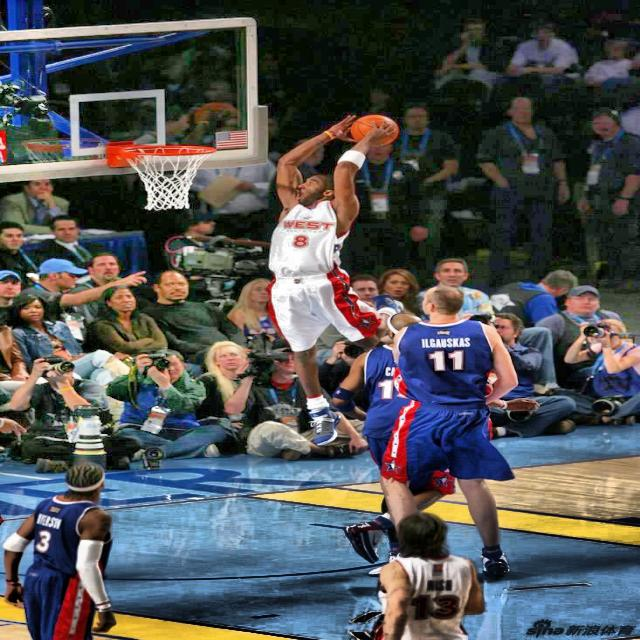rim: (121, 146, 218, 212)
